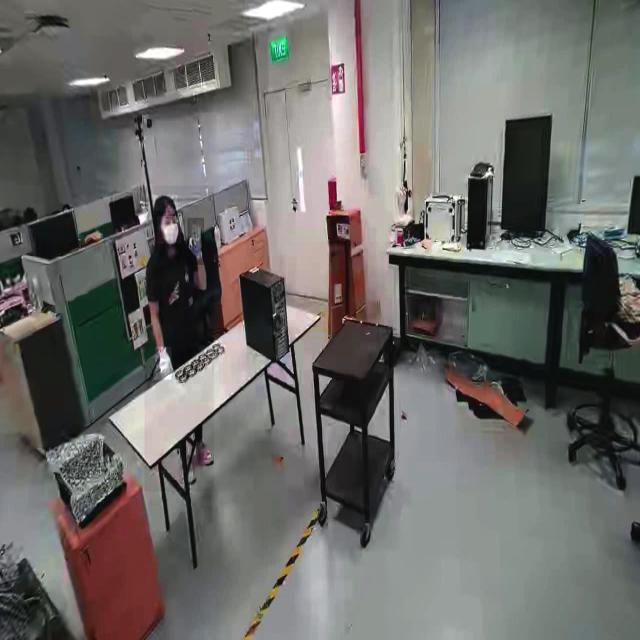face_mask: (157, 216, 181, 244)
hand_glove: (188, 218, 204, 265), (155, 346, 171, 381)
head_nohelmet: (152, 194, 178, 212)
person: (144, 186, 214, 492)
shoes: (192, 431, 214, 468)
